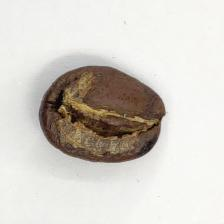NG: (45, 68, 156, 157)
